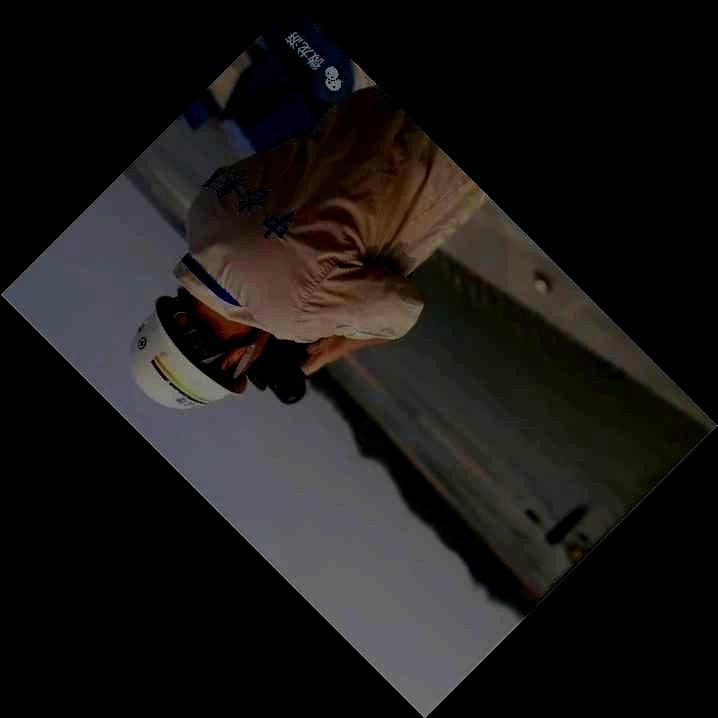helmet: (129, 284, 267, 409)
